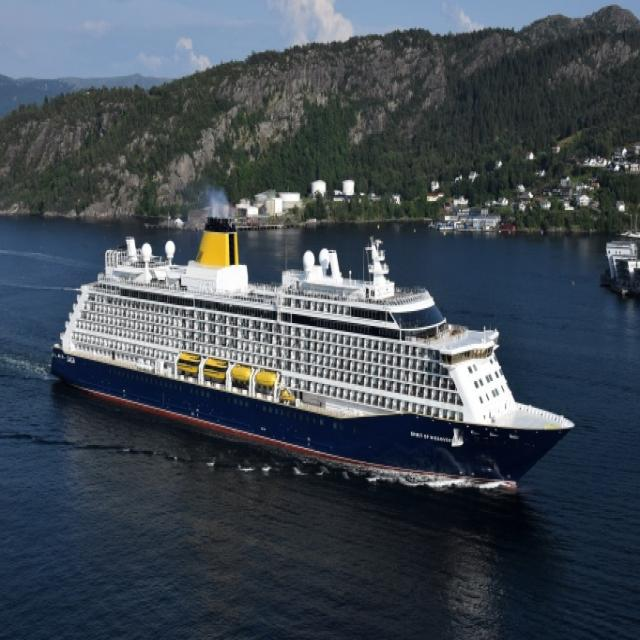cruises: (47, 209, 579, 504)
